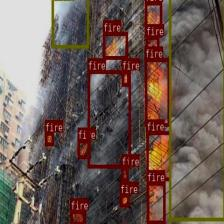fire: (88, 70, 130, 168), (144, 58, 169, 125), (146, 130, 170, 180), (147, 182, 165, 223), (103, 32, 127, 59), (144, 1, 162, 37), (145, 36, 159, 54), (77, 139, 90, 158), (70, 210, 84, 224), (44, 132, 54, 145), (122, 70, 129, 86), (120, 193, 128, 206), (121, 166, 128, 180)
smoke: (168, 0, 224, 220), (51, 0, 88, 47)
